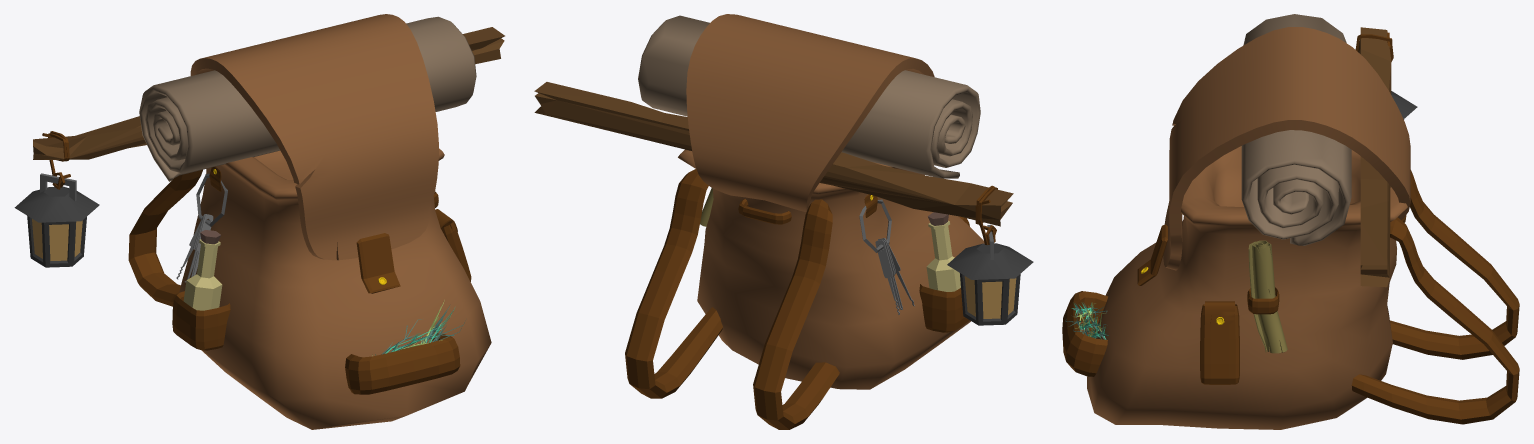
Rendered from backpack.fbx.
3 views of the same model, side by side, from view 1: azimuth 30°, elevation 25°; view 2: azimuth 150°, elevation 25°; view 3: azimuth 270°, elevation 25° (orthographic). The views are drawn at different scales.
Visible parts, largest first — view 1: Cube, Cube.001, Plane, Circle, Cube.003, Cube.005, Plane.002, Cube.004, Circle.001, Plane.003, Plane.009, Cube.012 (+2 smaller); view 2: Cube, Cube.001, Plane, Cube.005, Plane.005, Plane.002, Circle, Circle.001, Cube.004, Plane.009, Cube.009, Plane.001; view 3: Cube, Cube.001, Plane, Plane.005, Plane.002, Cube.005, Cube.003, Cube.007, Plane.004, Cube.012, Plane.003, Cube.010 (+1 smaller).
Part boxes in pixels (<box>): Cube: <box>179,148,491,429</box>; Cube.001: <box>190,14,438,260</box>; Plane: <box>139,16,476,181</box>; Circle: <box>14,186,99,267</box>; Cube.003: <box>345,333,460,394</box>; Cube.005: <box>33,27,504,159</box>; Plane.002: <box>128,169,202,306</box>; Cube.004: <box>172,291,230,350</box>; Circle.001: <box>183,230,222,310</box>; Plane.003: <box>356,233,400,293</box>; Plane.009: <box>176,173,227,282</box>; Cube.012: <box>372,300,465,355</box>; Cube: <box>678,149,984,389</box>; Cube.001: <box>686,14,934,211</box>; Plane: <box>638,15,980,178</box>; Cube.005: <box>534,82,1013,226</box>; Plane.005: <box>625,169,722,398</box>; Plane.002: <box>753,199,839,429</box>; Circle: <box>947,243,1033,325</box>; Circle.001: <box>926,212,960,291</box>; Cube.004: <box>919,284,969,332</box>; Plane.009: <box>859,199,914,314</box>; Cube.009: <box>738,199,791,224</box>; Plane.001: <box>975,185,997,244</box>; Cube: <box>1087,146,1407,429</box>; Cube.001: <box>1163,27,1410,270</box>; Plane: <box>1241,14,1351,245</box>; Plane.005: <box>1351,217,1519,424</box>; Plane.002: <box>1390,170,1519,359</box>; Cube.005: <box>1358,27,1391,287</box>; Cube.003: <box>1062,291,1108,376</box>; Cube.007: <box>1200,304,1239,384</box>; Plane.004: <box>1248,240,1287,353</box>; Cube.012: <box>1065,302,1108,339</box>; Plane.003: <box>1137,224,1167,285</box>; Cube.010: <box>1205,301,1234,325</box>.
Size of the model in its own units: 462 by 293 by 366.
